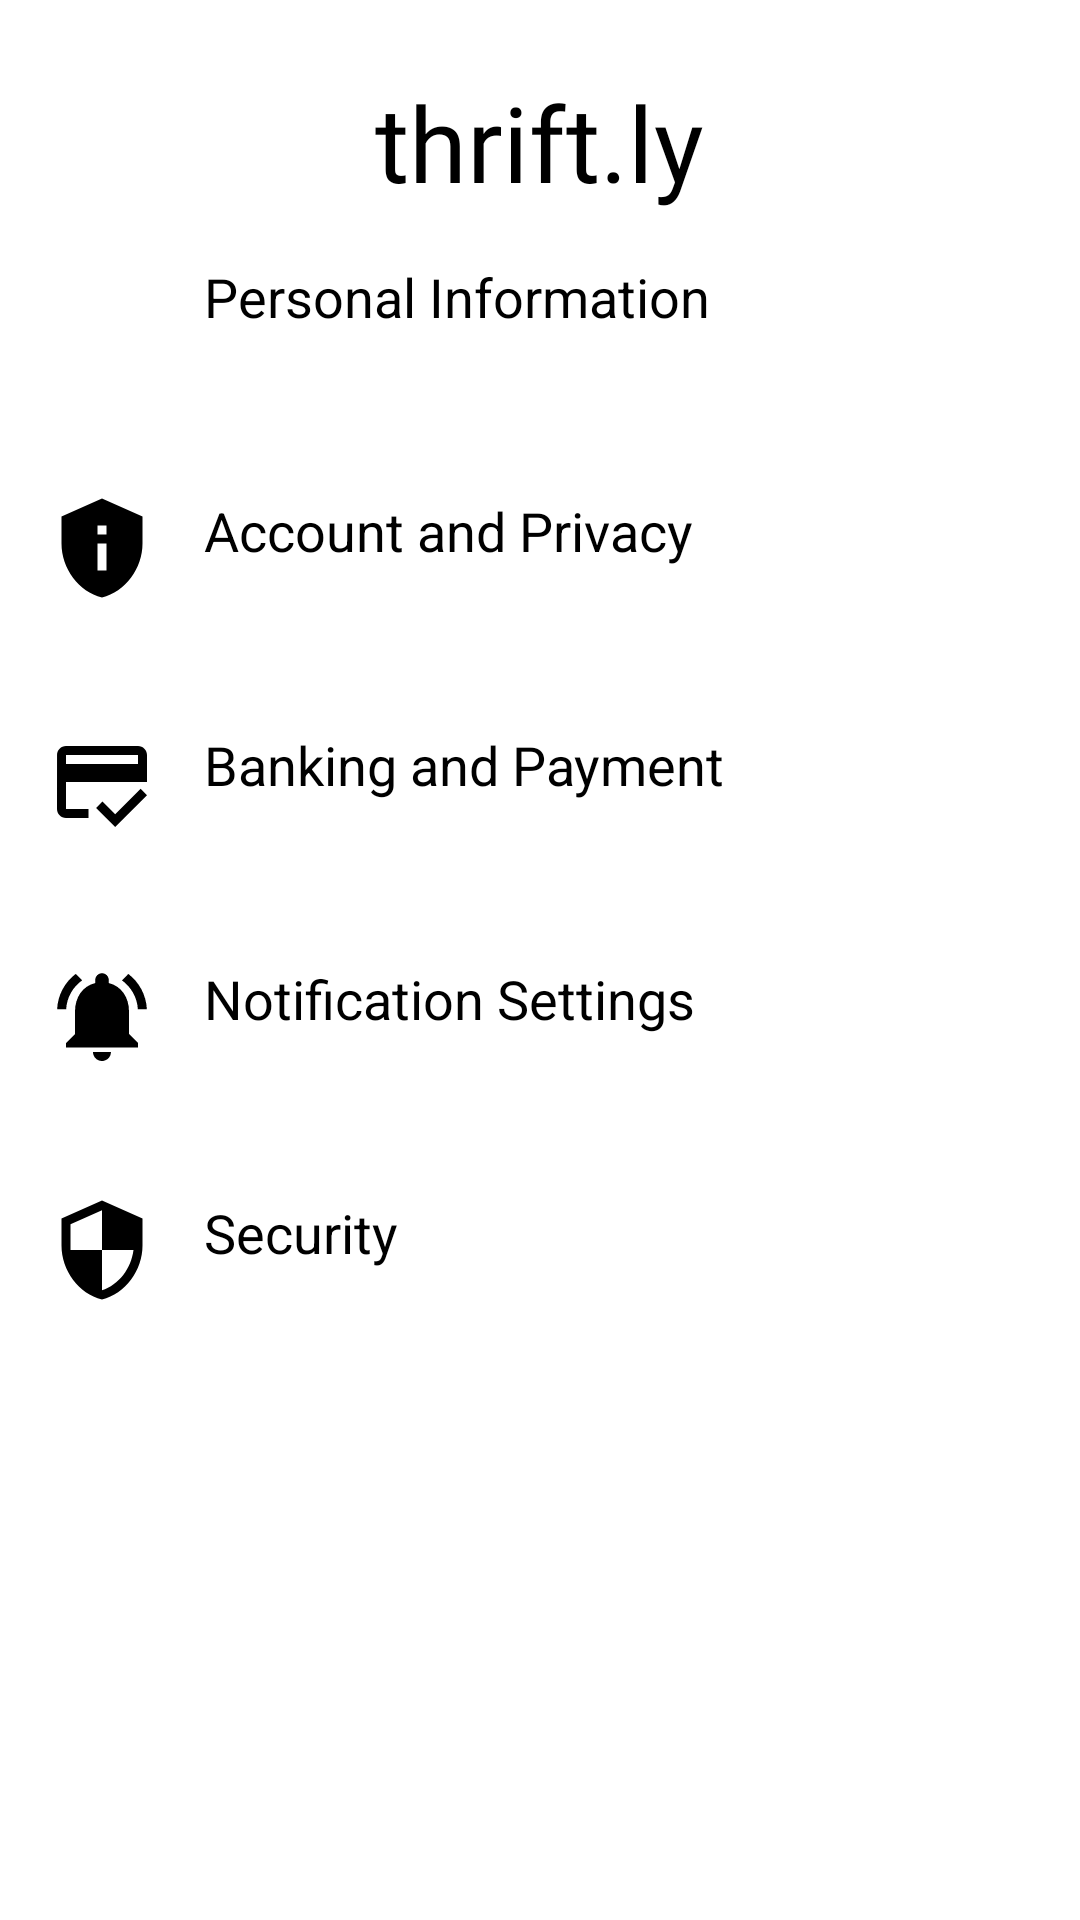

Screen size 1080 × 1920. Icon name, then its box in pixels as (x1, y1, x2, y2):
credit score: (57, 746, 147, 827)
privacy tip: (61, 498, 143, 598)
